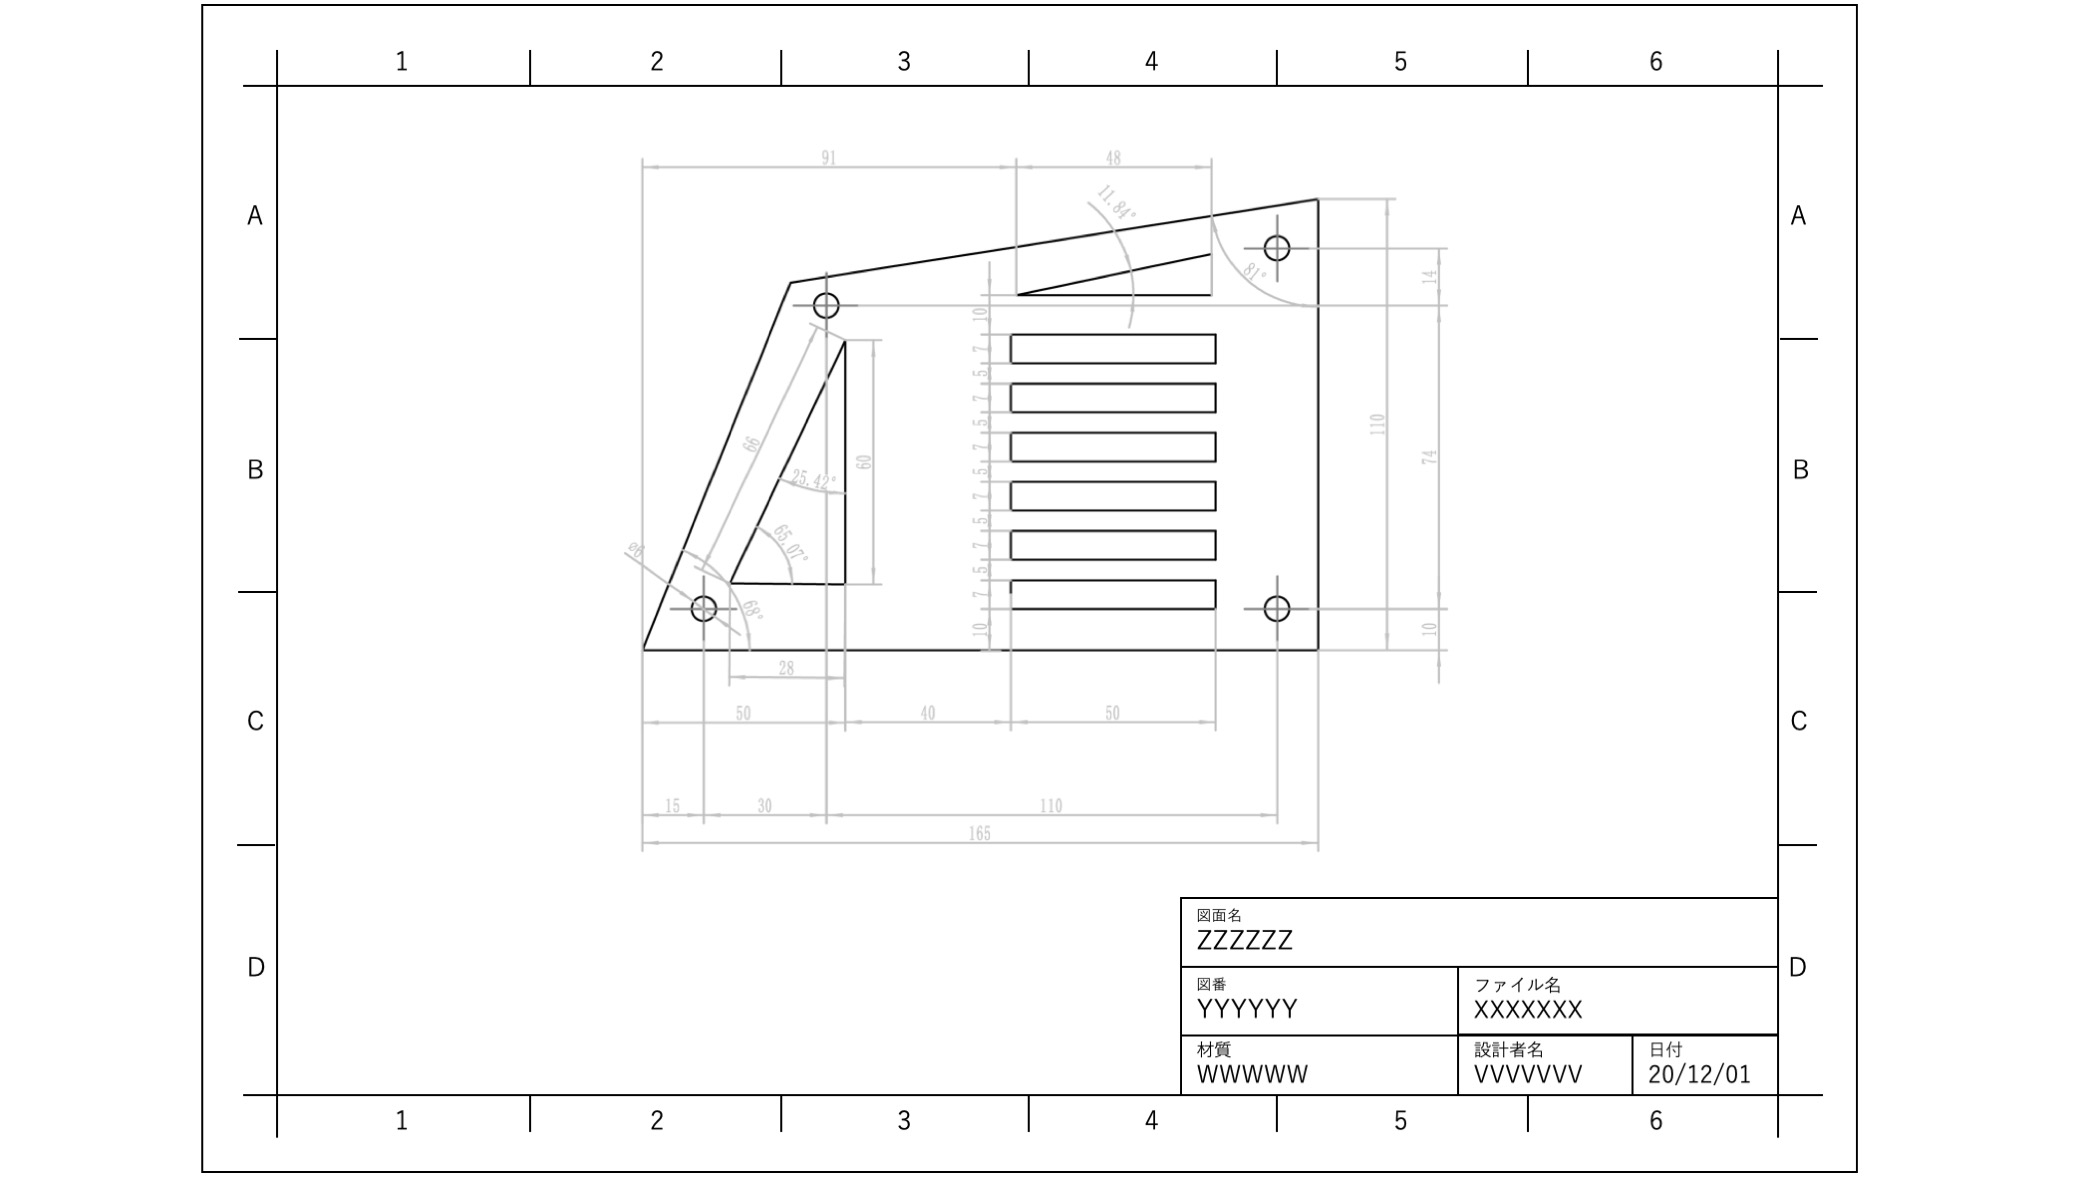circle: (1252, 574, 1297, 629), (672, 584, 718, 630), (800, 281, 845, 324), (1253, 218, 1297, 262)
rectangle: (991, 572, 1225, 623), (989, 423, 1222, 472), (998, 322, 1229, 369), (992, 373, 1225, 420), (998, 470, 1226, 516), (1000, 521, 1225, 562)
triangle: (705, 335, 852, 591), (1007, 228, 1217, 297)
